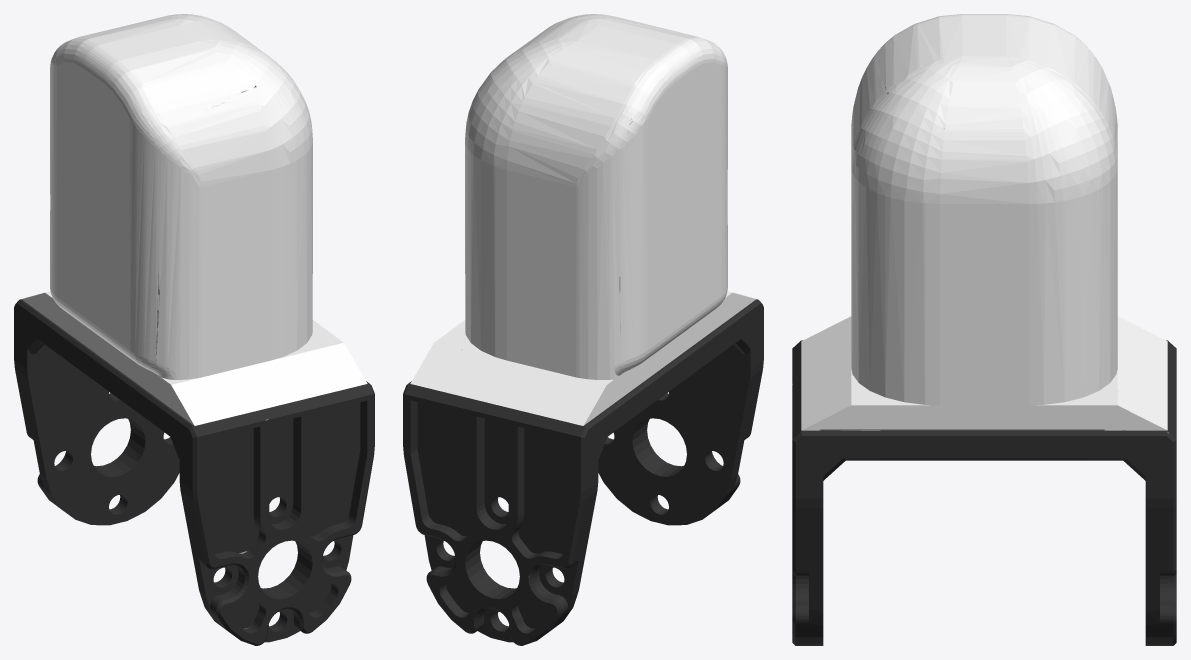
Rendered from fingertip_color.obj.
3 views of the same model, side by side, from view 1: azimuth 30°, elevation 25°; view 2: azimuth 150°, elevation 25°; view 3: azimuth 270°, elevation 25° (orthographic). The views are drawn at different scales.
Visible parts, largest first — view 1: fingertip; view 2: fingertip; view 3: fingertip.
Part boxes in pixels (left/top/right/bottom): fingertip: left=14, top=14, right=374, bottom=645; fingertip: left=403, top=14, right=763, bottom=645; fingertip: left=792, top=14, right=1176, bottom=645.
Bounding box in the file's own units: 0.0211 × 0.0574 × 0.0346.
1 material, 1 textured.
